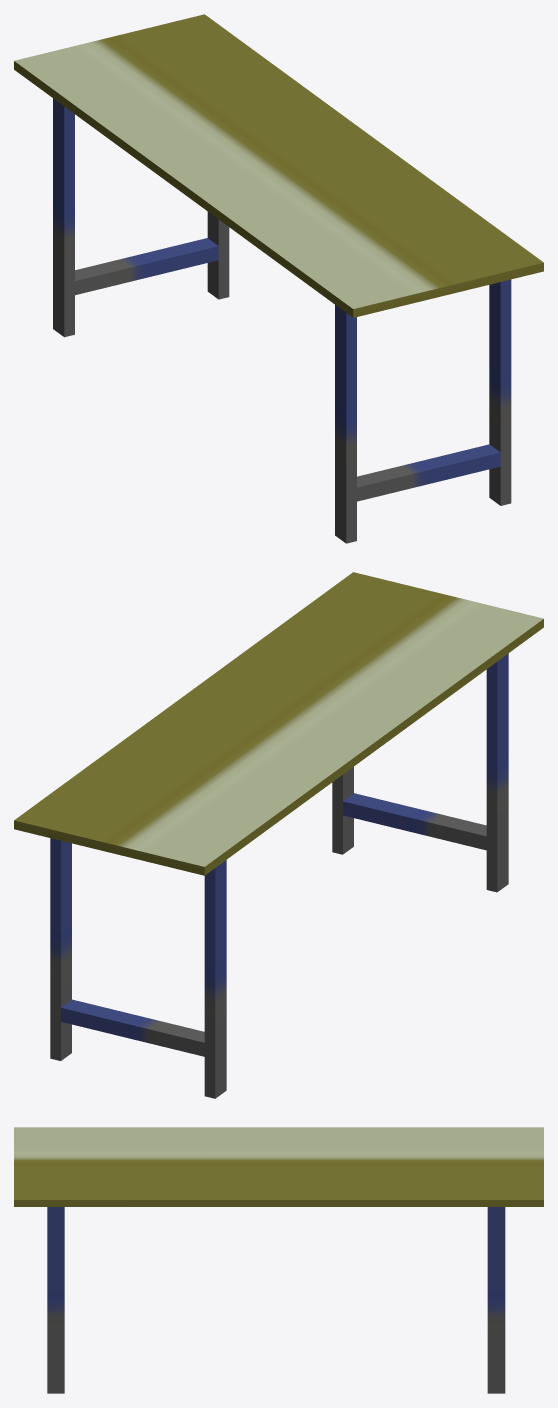
The model's file is Garage_Table.fbx.
The picture shows the model from 3 angles, top to bottom: view 1: azimuth 30°, elevation 25°; view 2: azimuth 150°, elevation 25°; view 3: azimuth 270°, elevation 25°; orthographic projection. The views are drawn at different scales.
Visible parts, largest first — view 1: Garage_Table; view 2: Garage_Table; view 3: Garage_Table.
Part boxes in pixels (<box>): Garage_Table: <box>14,14,543,543</box>; Garage_Table: <box>14,572,543,1098</box>; Garage_Table: <box>14,1127,543,1393</box>.
Bounding box in the file's own units: 75.72 × 96.22 × 233.
